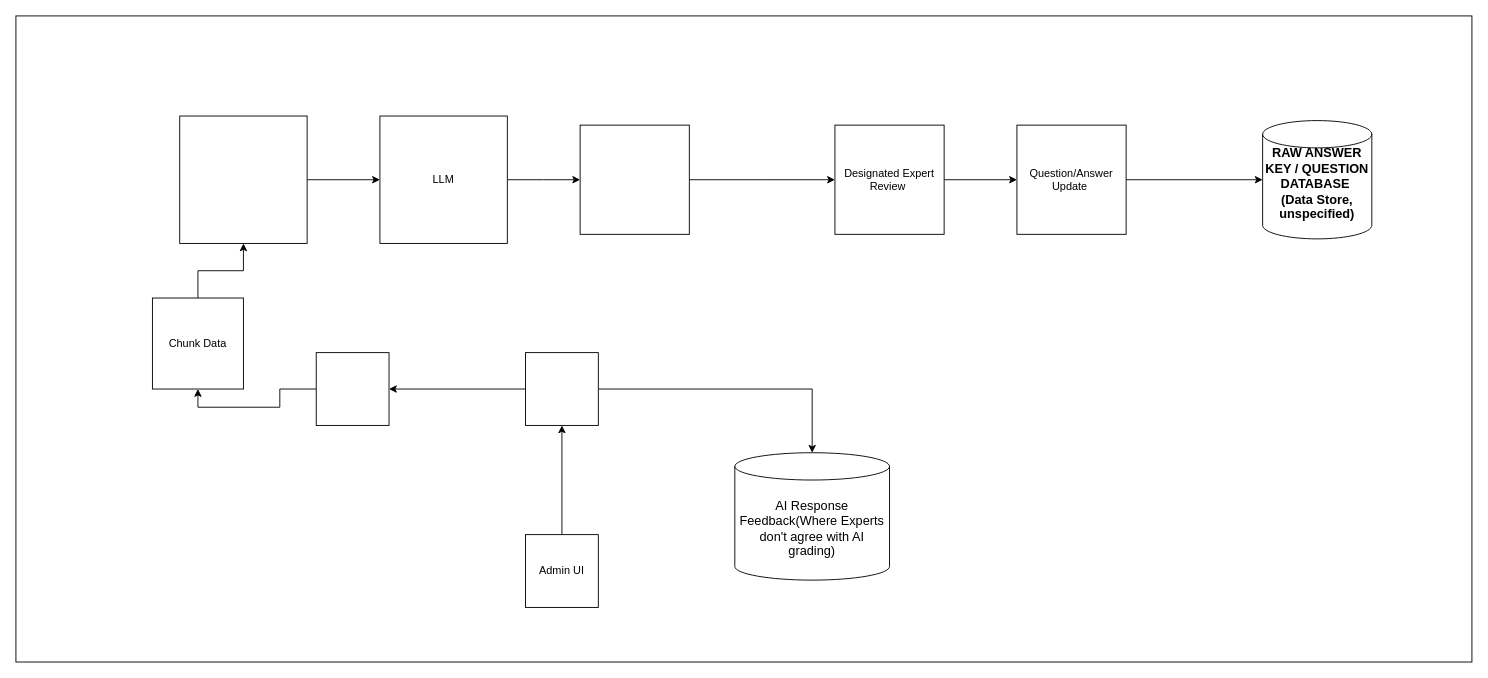
This 1488x678 diagram has some shape labels left out. The shapes that lost their labels are listed below. From the top down, each one's centre as x and y in pixels, then its label:
At [243,179]: "Pompt Orchestrator".
At [634,179]: "Summary".
At [352,388]: "Compression".
At [561,388]: "Pull Feedback".
